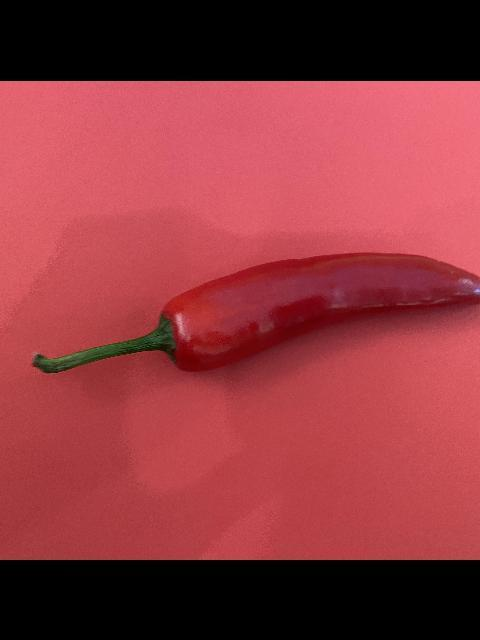chilli: (28, 250, 480, 376)
